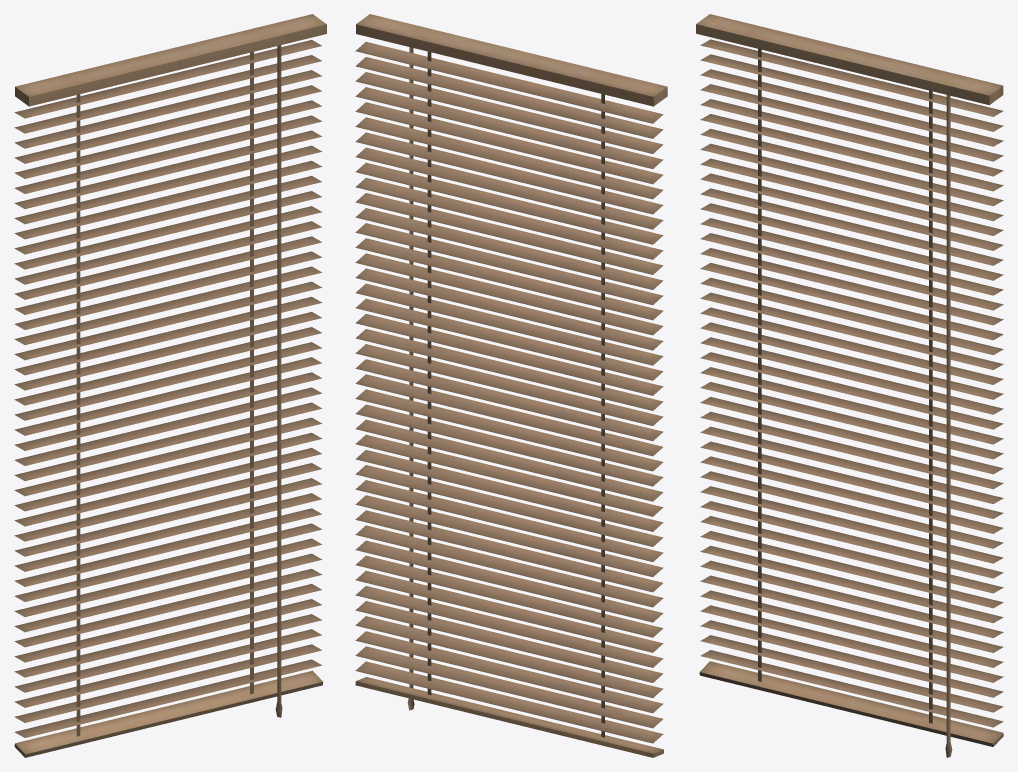
File: furni_0200477.FBX
3 renders of one model, left to right at view 1: azimuth 30°, elevation 25°; view 2: azimuth 150°, elevation 25°; view 3: azimuth 330°, elevation 25°, orthographic.
Visible parts, largest first — view 1: furni_0200477; view 2: furni_0200477; view 3: furni_0200477.
Boxes of the visible parts, x1,y1,x2,y2 form: furni_0200477: (14,14,326,757); furni_0200477: (355,14,667,757); furni_0200477: (696,14,1003,757).
Bounding box in the file's own units: 80.03 × 176 × 6.91.
Materials: 1 (1 with a texture image).
